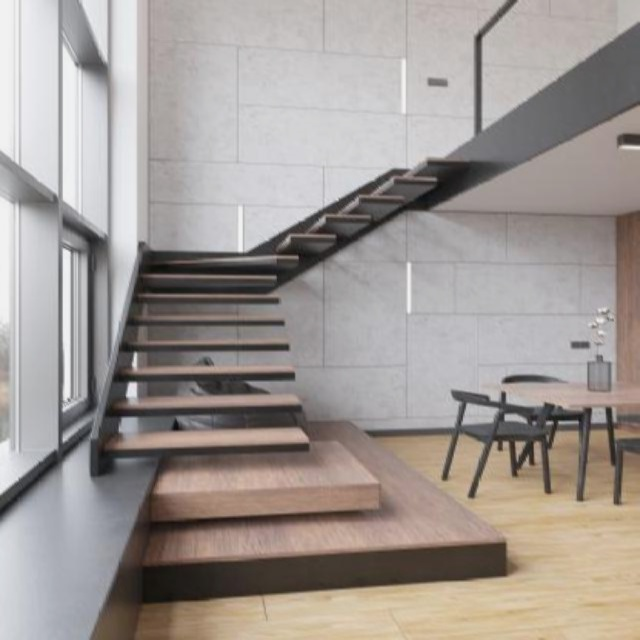stair: (68, 127, 532, 616)
